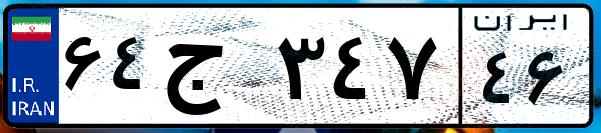3: (270, 28, 330, 110)
4: (330, 28, 385, 110), (475, 38, 525, 113), (110, 28, 158, 98)
6: (57, 26, 110, 100), (525, 38, 570, 115)
7: (385, 28, 445, 110)
ج: (158, 20, 270, 120)
